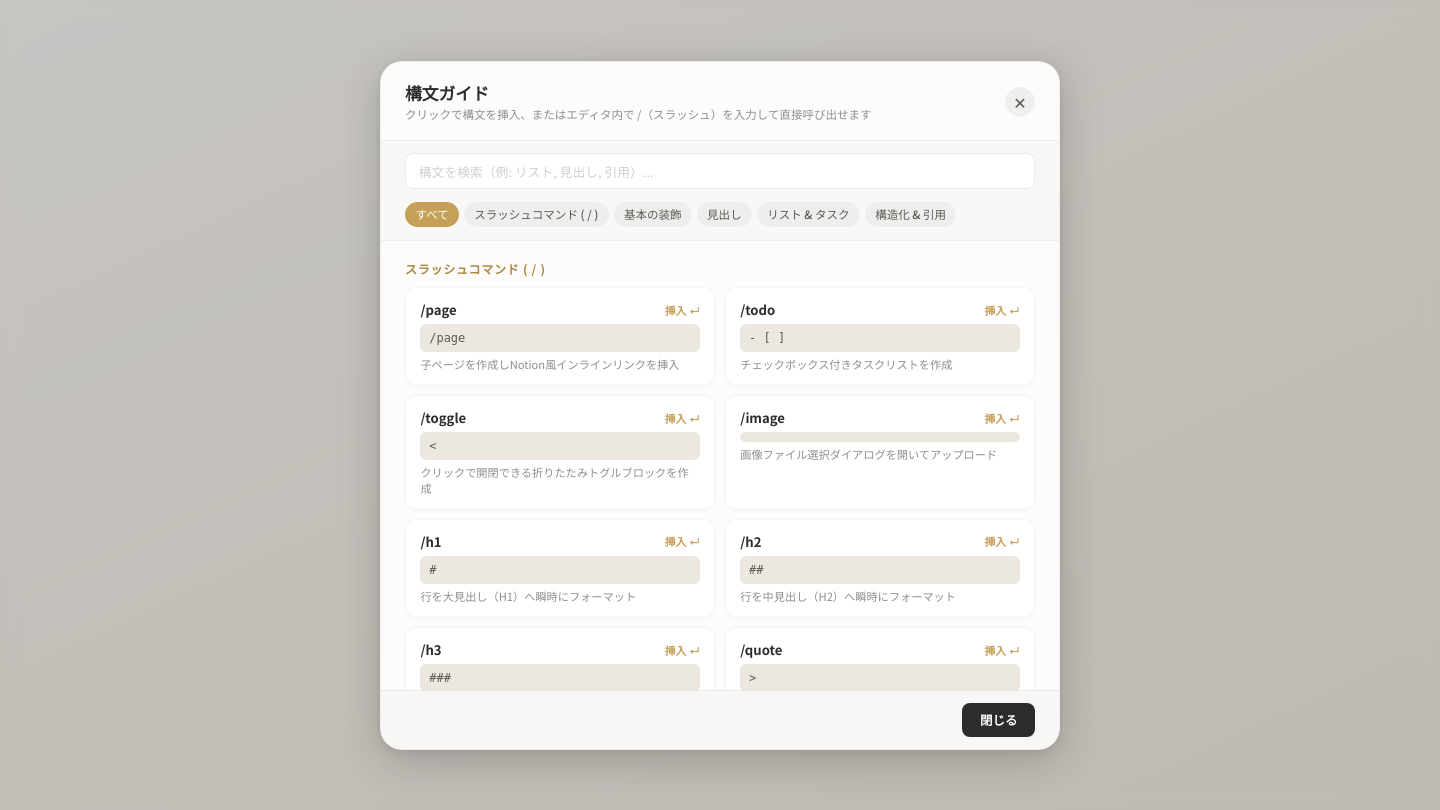
Test: MarkdownGuideModal › 検索バーで構文を絞り込める
Type "引用" into the field with placeholder "構文を検索（例: リスト, 見出し, 引用）..." at [720, 171], box [405, 153, 1035, 189]
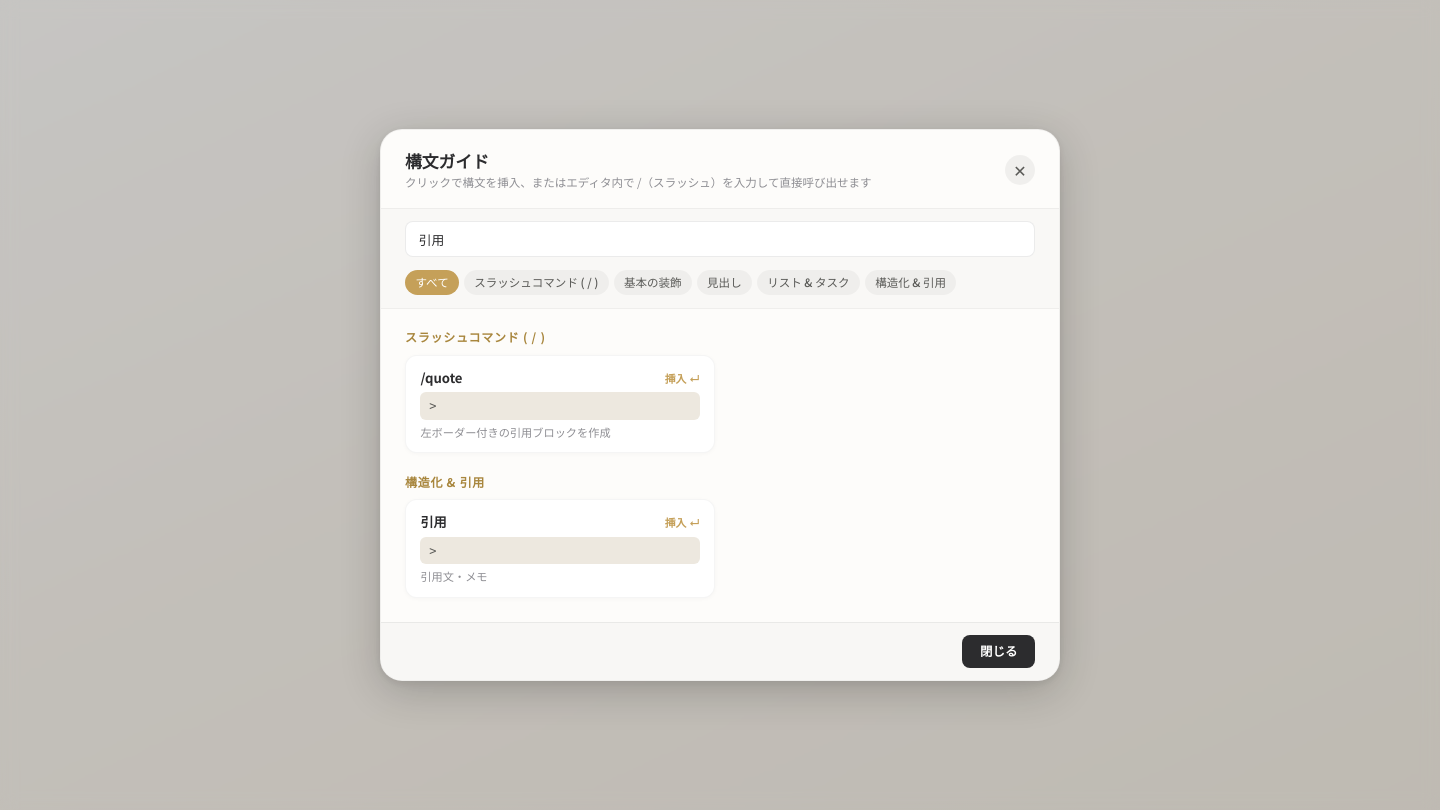
Now the text "引用" is shown, box [420, 512, 447, 532]
